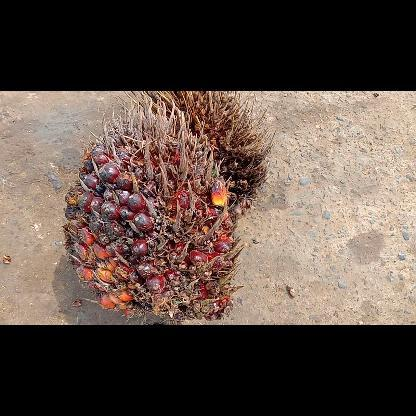Janjang kosong: (125, 90, 275, 214)
TBS masak: (63, 98, 244, 320)
